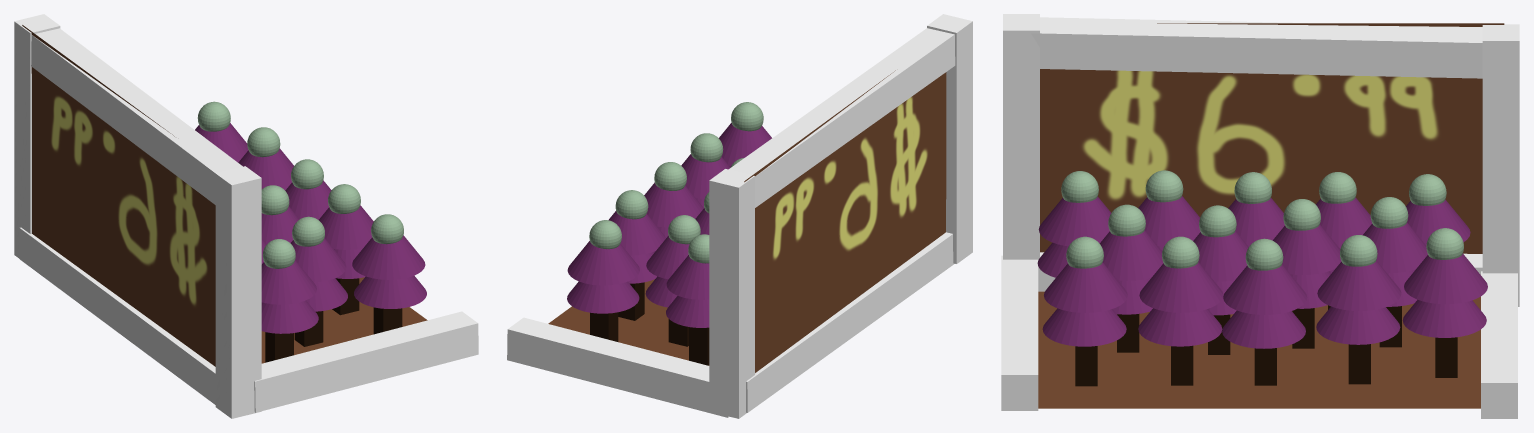
File: ObjectForStall5_TJ.glb
3 renders of one model, left to right at view 1: azimuth 30°, elevation 25°; view 2: azimuth 150°, elevation 25°; view 3: azimuth 270°, elevation 25°, orthographic. The views are drawn at different scales.
Visible parts, largest first — view 1: Plane.001, Cube.003, Cube.006, Cube, Cube.001, Cube.002, Plane, Cone.019, Cone.018, Cone.001, Cone.021, Cone (+19 smaller); view 2: Plane.001, Cube.006, Cube.002, Cube.005, Cube.001, Cube.003, Plane, Cone.027, Cone.026, Cone.023, Cone.025, Cone.009 (+17 smaller); view 3: Plane.001, Plane, Cube.006, Cube.002, Cube.003, Cube, Cube.005, Cone.027, Cone.021, Cone.019, Cone.025, Cone.023 (+41 smaller).
Boxes of the visible parts, <box> form: Plane.001: <box>22,25,215,366</box>; Cube.003: <box>215,166,261,418</box>; Cube.006: <box>31,28,242,204</box>; Cube: <box>254,311,478,412</box>; Cube.001: <box>19,227,215,404</box>; Cube.002: <box>14,14,60,258</box>; Plane: <box>261,277,427,363</box>; Cone.019: <box>352,235,425,279</box>; Cone.018: <box>354,275,426,308</box>; Cone.001: <box>261,260,316,304</box>; Cone.021: <box>319,205,373,249</box>; Cone: <box>261,300,318,333</box>; Plane.001: <box>744,70,946,372</box>; Cube.006: <box>728,28,955,207</box>; Cube.002: <box>709,169,754,418</box>; Cube.005: <box>507,317,729,417</box>; Cube.001: <box>746,232,954,412</box>; Cube.003: <box>927,14,972,263</box>; Plane: <box>548,279,709,365</box>; Cone.027: <box>567,241,639,285</box>; Cone.026: <box>567,281,639,313</box>; Cone.023: <box>644,182,703,227</box>; Cone.025: <box>608,211,665,255</box>; Cone.009: <box>666,255,709,299</box>; Plane.001: <box>1040,23,1504,253</box>; Plane: <box>1038,291,1480,408</box>; Cube.006: <box>1031,17,1482,78</box>; Cube.002: <box>1482,24,1519,306</box>; Cube.003: <box>1003,14,1039,259</box>; Cube: <box>1001,255,1038,410</box>; Cube.005: <box>1481,271,1517,418</box>; Cone.027: <box>1404,253,1487,304</box>; Cone.021: <box>1139,262,1223,312</box>; Cone.019: <box>1044,262,1127,312</box>; Cone.025: <box>1317,260,1401,310</box>; Cone.023: <box>1223,264,1307,314</box>.
Bounding box in the file's own units: 2.21 × 2.06 × 3.53.
8 materials, 6 textured.
